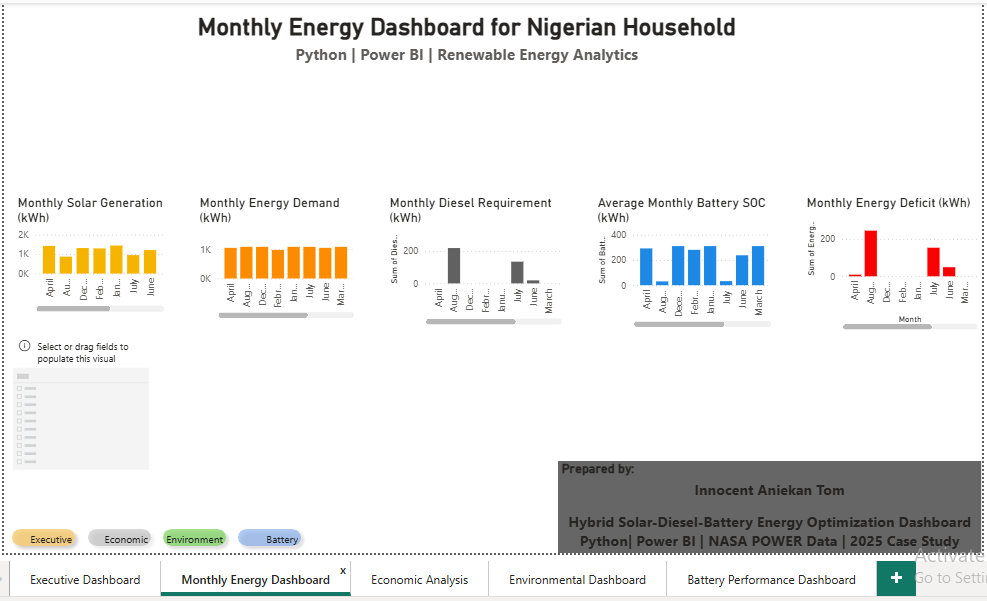

This screenshot's page, from the dashboard's own definition file:
{"tool":"powerbi","page":{"name":"Monthly Energy Dashboard","canvas":[1280,720],"ordinal":1},"visuals":[{"type":"clusteredColumnChart","title":"Monthly Solar Generation (kWh)","fields":{"Category":["Hybrid_Energy_Results.Month"],"Y":["Sum(Hybrid_Energy_Results.Solar_Output)"]},"box":[13.4,252,201.6,157.9],"z":0},{"type":"clusteredColumnChart","title":"Monthly Energy Demand (kWh)","fields":{"Category":["Hybrid_Energy_Results.Month"],"Y":["Sum(Hybrid_Energy_Results.Load_kWh)"]},"box":[252,252,211.7,166.3],"z":1000},{"type":"clusteredColumnChart","title":"Monthly Diesel Requirement (kWh)","fields":{"Category":["Hybrid_Energy_Results.Month"],"Y":["Sum(Hybrid_Energy_Results.Diesel_Needed_Battery)"]},"box":[500.6,252,235.2,174.7],"z":2000},{"type":"clusteredColumnChart","title":"Average Monthly Battery SOC (kWh)","fields":{"Category":["Hybrid_Energy_Results.Month"],"Y":["Sum(Hybrid_Energy_Results.Battery_SOC)"]},"box":[772.7,252,236.9,178.1],"z":3000},{"type":"clusteredColumnChart","title":"Monthly Energy Deficit (kWh)","fields":{"Category":["Hybrid_Energy_Results.Month"],"Y":["Sum(Hybrid_Energy_Results.Energy_Gap)"]},"box":[1046.5,252,233.5,181.4],"z":4000},{"type":"slicer","box":[11.8,433.4,178.1,186.5],"z":5000},{"type":"textbox","title":"Monthly Energy Dashboard for Nigerian Household","box":[198.2,13.4,816.4,142.8],"z":6000},{"type":"actionButton","box":[1.7,679.7,100.8,40.3],"z":7000},{"type":"actionButton","box":[100.2,679.7,100.8,40.3],"z":8000},{"type":"actionButton","box":[198.8,679.7,100.8,40.3],"z":9000},{"type":"actionButton","box":[297.3,679.7,100.8,40.3],"z":10000},{"type":"textbox","title":"Prepared by: ","box":[725.7,599.7,554.3,120.9],"z":11000}]}

Visuals, with their boxes on the page's 1280x720 design canvas (x1, y1, x2, y2). These are canvas units, not pixel positions in the 987x601 screenshot, which may show the page scaled, cropped or inside an application window:
"Monthly Solar Generation (kWh)" clusteredColumnChart: select_region(13, 252, 215, 410)
"Monthly Energy Demand (kWh)" clusteredColumnChart: select_region(252, 252, 464, 418)
"Monthly Diesel Requirement (kWh)" clusteredColumnChart: select_region(501, 252, 736, 427)
"Average Monthly Battery SOC (kWh)" clusteredColumnChart: select_region(773, 252, 1010, 430)
"Monthly Energy Deficit (kWh)" clusteredColumnChart: select_region(1046, 252, 1280, 433)
slicer: select_region(12, 433, 190, 620)
"Monthly Energy Dashboard for Nigerian Household" textbox: select_region(198, 13, 1015, 156)
actionButton: select_region(2, 680, 102, 720)
actionButton: select_region(100, 680, 201, 720)
actionButton: select_region(199, 680, 300, 720)
actionButton: select_region(297, 680, 398, 720)
"Prepared by: " textbox: select_region(726, 600, 1280, 721)
